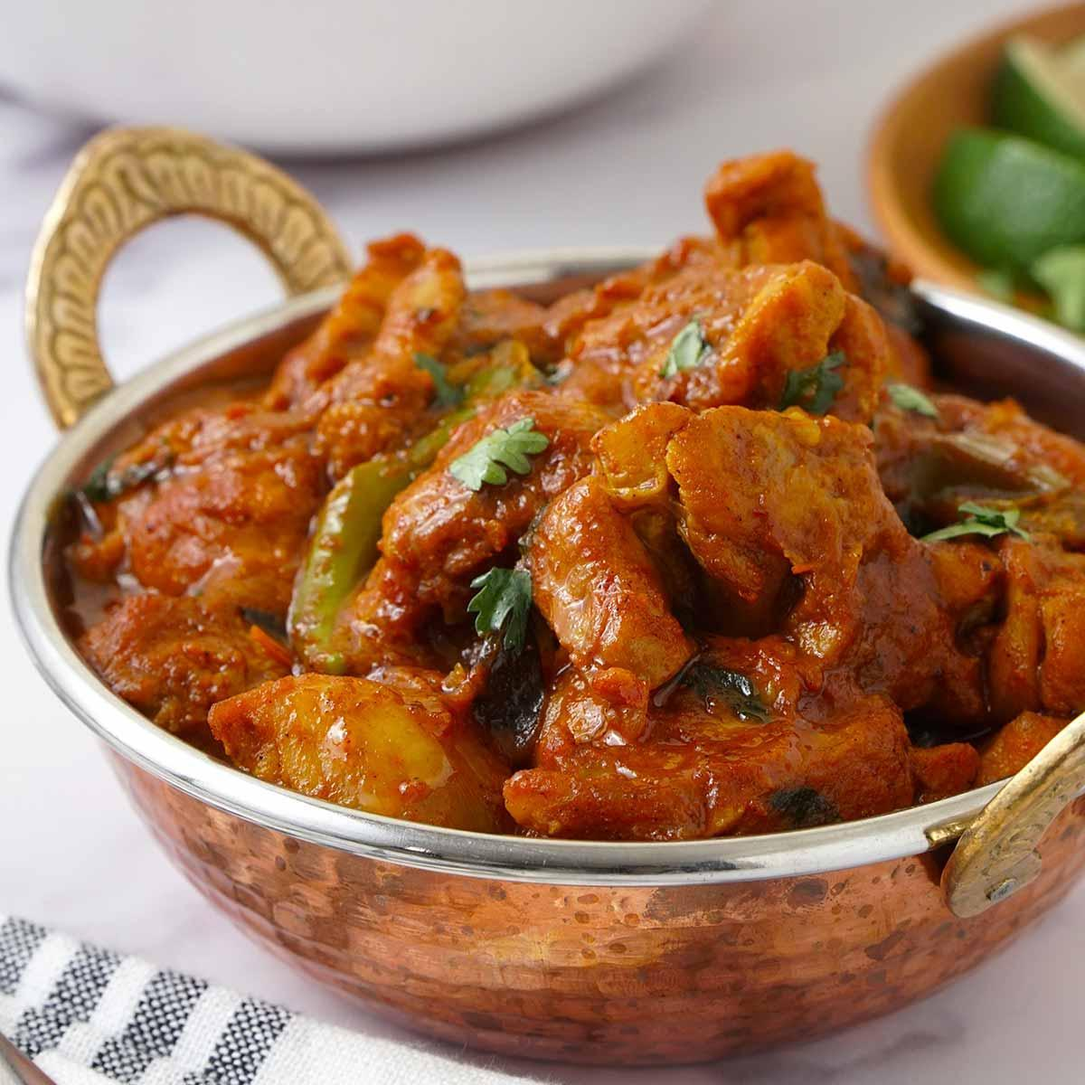chicken: (105, 252, 1085, 858)
